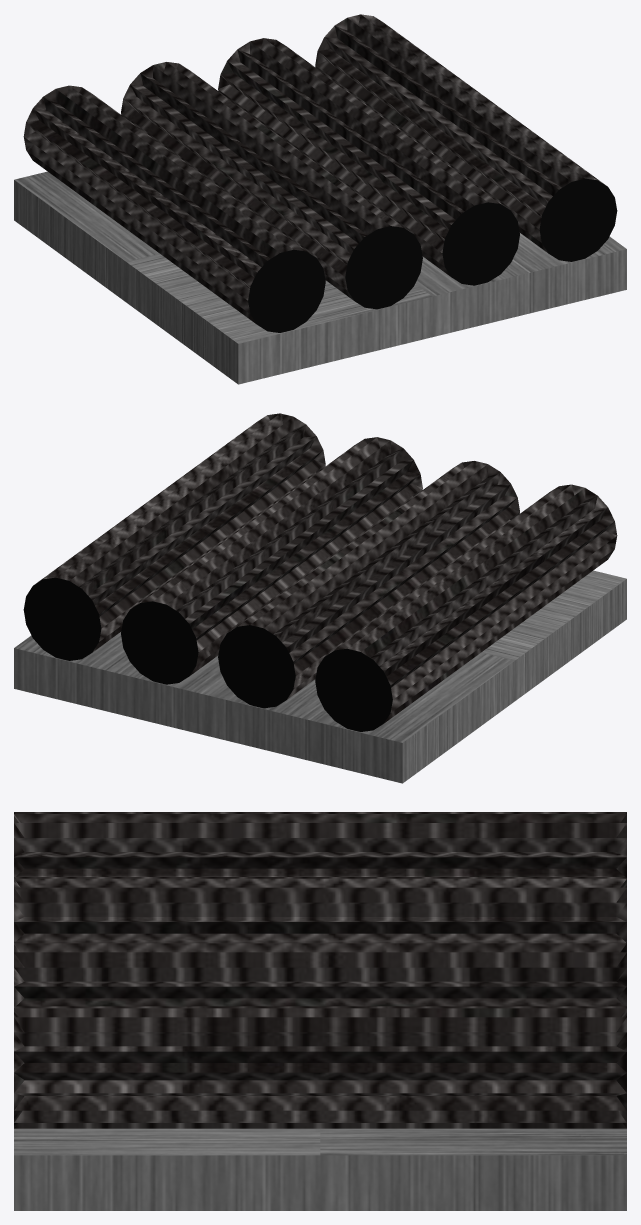
The model's file is ConveyorBelt.FBX.
3 renders of one model, top to bottom at view 1: azimuth 30°, elevation 25°; view 2: azimuth 150°, elevation 25°; view 3: azimuth 270°, elevation 25°, orthographic. The views are drawn at different scales.
Parts seen in each view (by area): view 1: Base, Roller1, Roller4, Roller3, Roller2; view 2: Base, Roller1, Roller4, Roller3, Roller2; view 3: Roller4, Base, Roller3, Roller1, Roller2.
Boxes of the visible parts, bbox=[...] form: Base: bbox=[14, 171, 626, 384]; Roller1: bbox=[23, 85, 325, 332]; Roller4: bbox=[315, 14, 617, 261]; Roller3: bbox=[218, 38, 519, 285]; Roller2: bbox=[121, 62, 422, 309]; Base: bbox=[14, 570, 626, 783]; Roller1: bbox=[315, 484, 617, 731]; Roller4: bbox=[23, 413, 325, 660]; Roller3: bbox=[121, 437, 422, 684]; Roller2: bbox=[218, 461, 519, 708]; Roller4: bbox=[14, 1006, 626, 1128]; Base: bbox=[14, 1128, 626, 1210]; Roller3: bbox=[14, 941, 626, 1006]; Roller1: bbox=[14, 812, 626, 876]; Roller2: bbox=[14, 877, 626, 941].
Size of the model in its own units: 50 by 50 by 14.92.
1 material, 1 textured.
